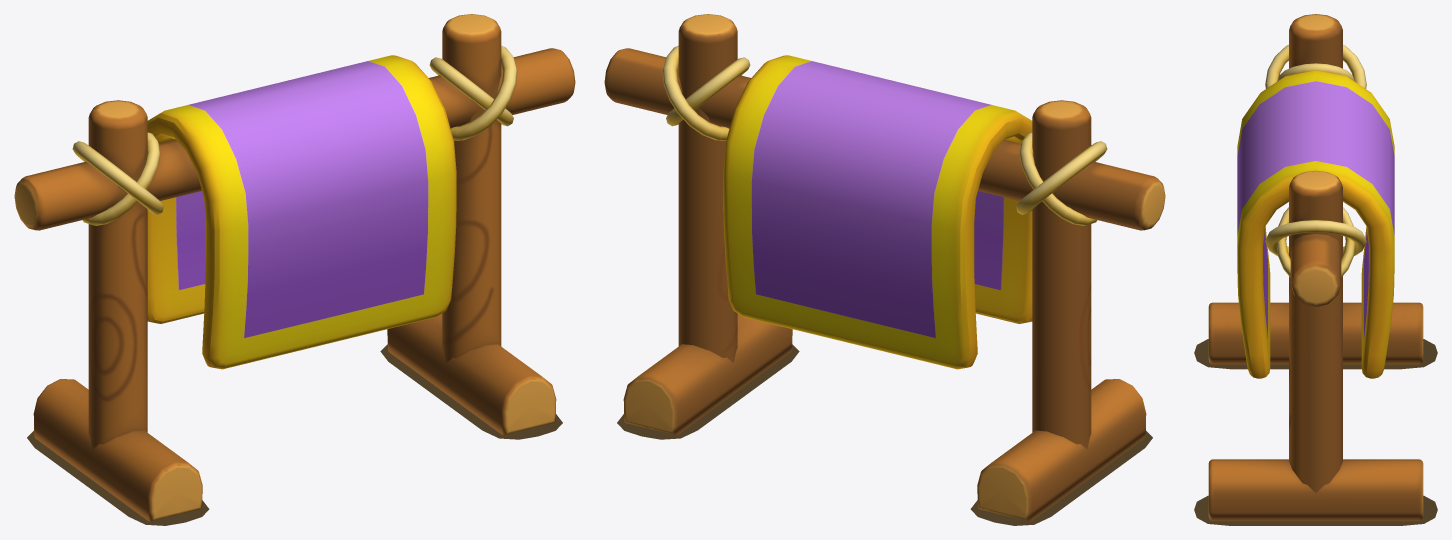
The model's file is E_Hanger.fbx.
The picture shows the model from 3 angles, left to right: view 1: azimuth 30°, elevation 25°; view 2: azimuth 150°, elevation 25°; view 3: azimuth 270°, elevation 25°; orthographic projection. The views are drawn at different scales.
Visible parts, largest first — view 1: pCylinder58, E_hanger_pCylinder57, polySurface49; view 2: pCylinder58, E_hanger_pCylinder57, polySurface49; view 3: E_hanger_pCylinder57, pCylinder58, polySurface49.
Part boxes in pixels (x1,y1,x2,y2): pCylinder58: (147,55,456,369); E_hanger_pCylinder57: (14,14,575,521); polySurface49: (27,344,562,525); pCylinder58: (723,55,1032,369); E_hanger_pCylinder57: (604,14,1165,521); polySurface49: (617,344,1152,525); E_hanger_pCylinder57: (1208,14,1423,521); pCylinder58: (1237,70,1394,378); polySurface49: (1194,339,1437,525).
Size of the model in its own units: 247 by 159 by 106.
